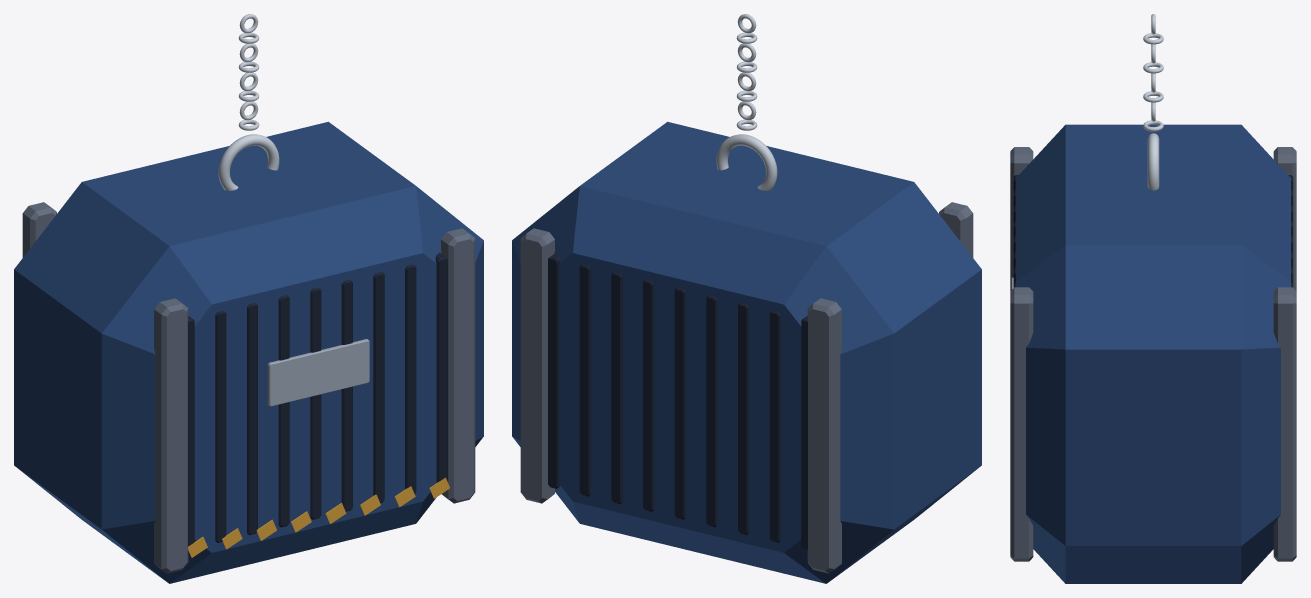
Rendered from prop_container_droppable.glb.
3 renders of one model, left to right at view 1: azimuth 30°, elevation 25°; view 2: azimuth 150°, elevation 25°; view 3: azimuth 270°, elevation 25°, orthographic.
Visible parts, largest first — view 1: drop_body, drop_casting-1.451.15, drop_casting1.451.15, drop_plate, drop_rib1, drop_rib8, drop_rib6, drop_rib7, drop_rib2, drop_rib3, drop_rib4, drop_rib5 (+4 smaller); view 2: drop_body, drop_casting-1.45-1.15, drop_casting1.45-1.15, drop_rib8, drop_rib7, drop_rib3, drop_rib4, drop_rib6, drop_rib5, drop_rib1, drop_rib2, drop_rib0 (+2 smaller); view 3: drop_body, drop_casting1.45-1.15, drop_casting1.451.15, drop_casting-1.45-1.15, drop_casting-1.451.15, drop_hook.
Boxes of the visible parts, x1,y1,x2,y2 form: drop_body: [14, 121, 483, 583]; drop_casting-1.451.15: [154, 298, 188, 573]; drop_casting1.451.15: [441, 228, 475, 503]; drop_plate: [267, 339, 369, 406]; drop_rib1: [215, 310, 226, 542]; drop_rib8: [435, 252, 447, 482]; drop_rib6: [373, 272, 384, 503]; drop_rib7: [405, 264, 416, 493]; drop_rib2: [247, 303, 257, 535]; drop_rib3: [278, 295, 289, 527]; drop_rib4: [310, 287, 321, 519]; drop_rib5: [341, 279, 352, 511]; drop_body: [512, 121, 981, 583]; drop_casting-1.45-1.15: [807, 298, 841, 573]; drop_casting1.45-1.15: [520, 228, 554, 503]; drop_rib8: [548, 252, 560, 488]; drop_rib7: [579, 264, 590, 496]; drop_rib3: [706, 295, 717, 527]; drop_rib4: [674, 287, 685, 519]; drop_rib6: [611, 272, 622, 504]; drop_rib5: [643, 279, 654, 511]; drop_rib1: [769, 310, 780, 542]; drop_rib2: [738, 303, 748, 535]; drop_rib0: [801, 316, 807, 549]; drop_body: [1016, 124, 1290, 583]; drop_casting1.45-1.15: [1273, 287, 1296, 561]; drop_casting1.451.15: [1010, 287, 1033, 561]; drop_casting-1.45-1.15: [1273, 147, 1296, 291]; drop_casting-1.451.15: [1010, 147, 1033, 291]; drop_hook: [1147, 133, 1159, 190].
Size of the model in its own units: 3.86 by 4.9 by 2.5.
